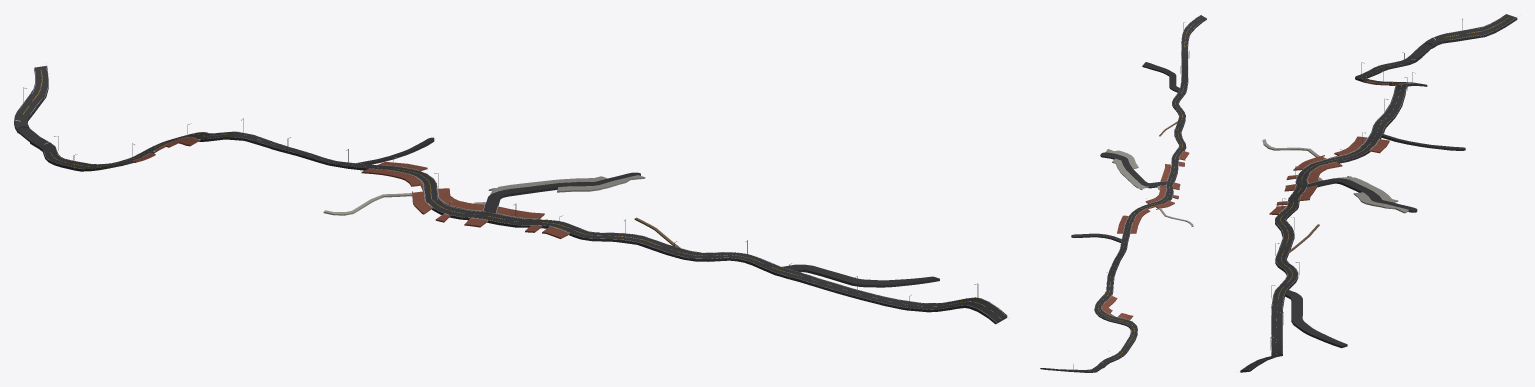
The picture shows the model from 3 angles, left to right: view 1: azimuth 30°, elevation 25°; view 2: azimuth 150°, elevation 25°; view 3: azimuth 330°, elevation 25°; orthographic projection. The views are drawn at different scales.
Bounding box in the file's own units: 225 × 84.5 × 589.
